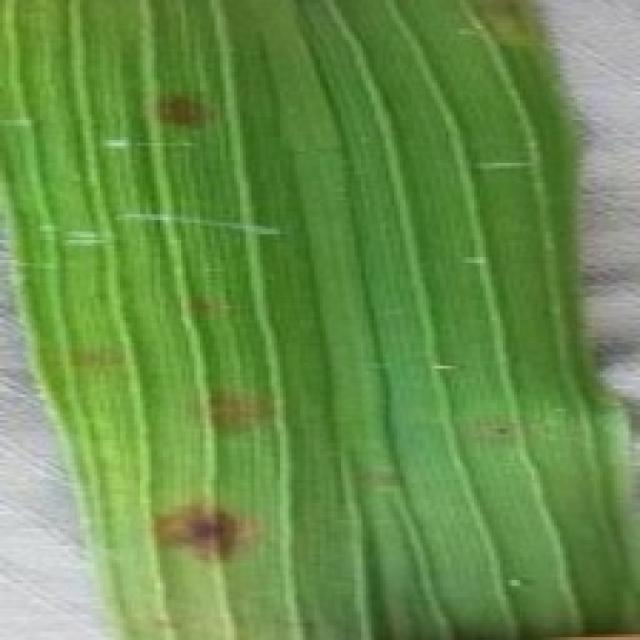Rice___Brown_Spot: (1, 0, 637, 637)
